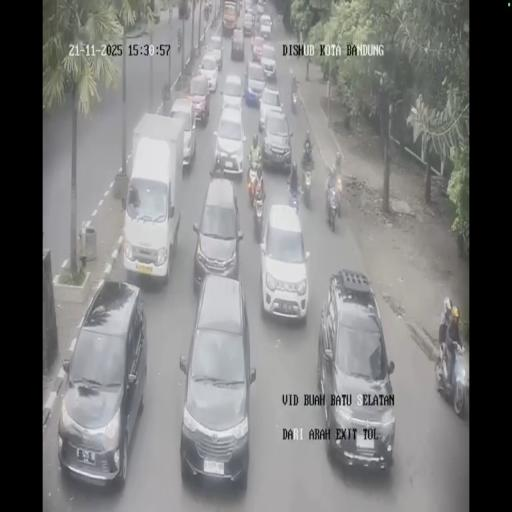3: (122, 122, 184, 284), (222, 0, 238, 35)
car: (57, 282, 146, 488), (178, 274, 254, 486), (320, 273, 396, 468), (259, 202, 310, 321), (192, 175, 244, 290), (212, 106, 246, 178), (260, 109, 293, 172), (169, 97, 198, 161), (188, 72, 210, 124), (244, 60, 265, 104), (222, 72, 244, 110), (206, 36, 224, 70), (260, 41, 276, 78), (230, 28, 244, 60), (242, 10, 255, 36), (260, 13, 272, 40), (255, 2, 265, 18), (243, 0, 253, 14)
truck: (435, 332, 467, 414), (250, 179, 266, 239), (326, 179, 342, 231), (300, 159, 314, 208), (287, 179, 301, 216), (290, 78, 298, 112), (250, 28, 256, 50), (176, 34, 182, 52), (208, 1, 212, 14)
